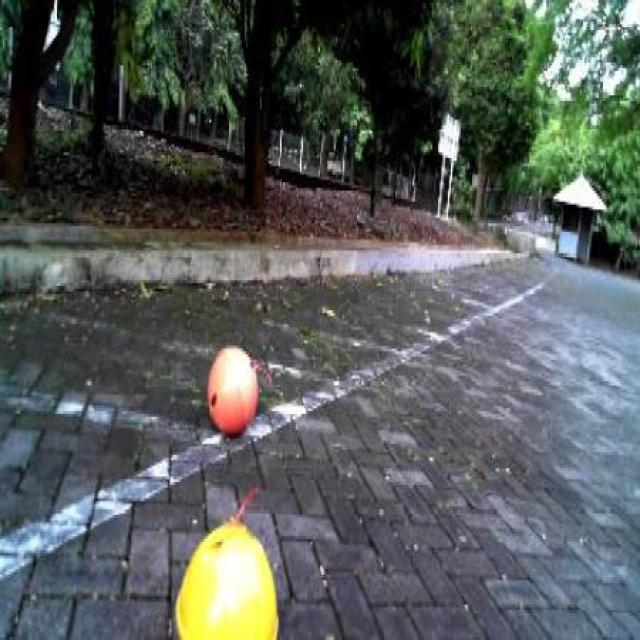buoy: (168, 506, 289, 634), (200, 330, 264, 448)
